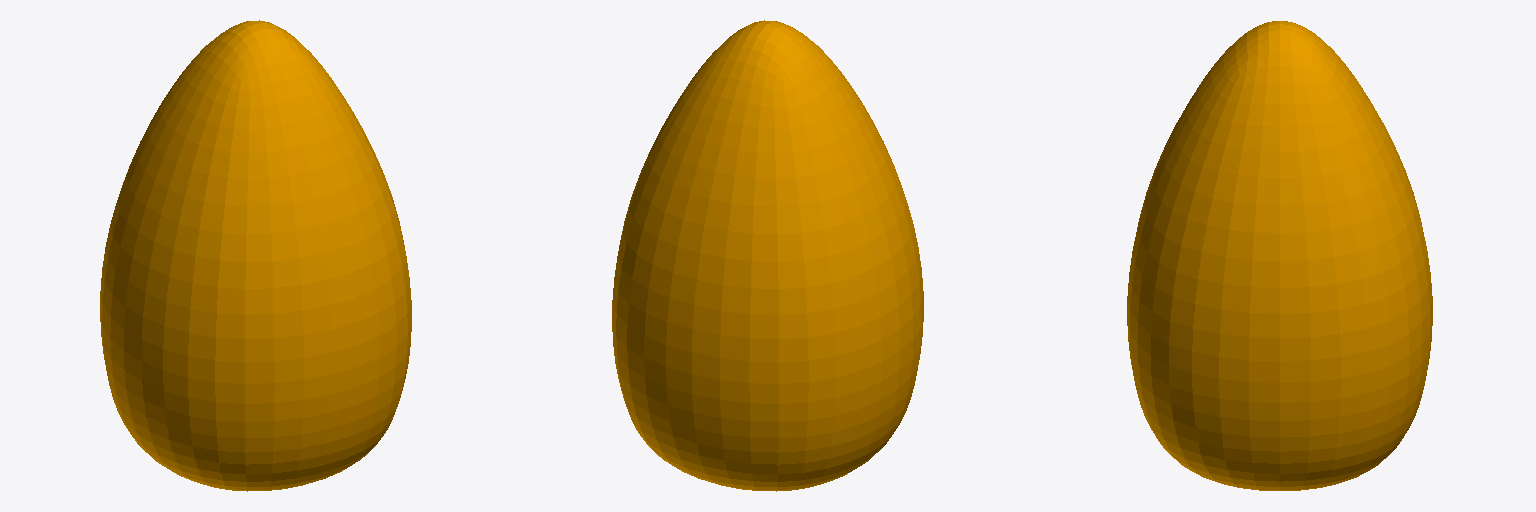
The robot description file, URDF, robot "mesh_object":
<robot name="mesh_object">
            <link name="base">
                <visual>
                    <geometry>
                        <mesh filename="egg_1_v000.obj" scale="1 1 1" />
                    </geometry>
                </visual>
                <collision>
                    <geometry>
                        <mesh filename="egg_1_v000.obj" scale="1 1 1" />
                    </geometry>
                </collision>
                <inertial>
                    <origin xyz="0.000000 0.000000 0.050001" rpy="0 0 0" />
                    <mass value="0.500000" />
                    <inertia ixx="0.01" iyy="0.01" izz="0.01" ixy="0" ixz="0" iyz="0" />
                </inertial>
            </link>
            </robot>

--- Facts derived from the render (not from the file) ---
Views: 3 orthographic renders of the robot side by side, from view 1: azimuth 30°, elevation 25°; view 2: azimuth 150°, elevation 25°; view 3: azimuth 270°, elevation 25°.
Model mesh_object with 1 links and 0 joints (none), rooted at base, posed every joint at zero.
Visible links, largest first — view 1: base; view 2: base; view 3: base.
Boxes of the visible links, bbox=[...] form: base: bbox=[100, 20, 411, 491]; base: bbox=[612, 20, 923, 491]; base: bbox=[1127, 21, 1432, 490].
Bounding box of the posed robot: 0.0624 × 0.0624 × 0.1 m (x, y, z).
1 mesh visuals loaded from 1 distinct referenced files (1 OBJ).
